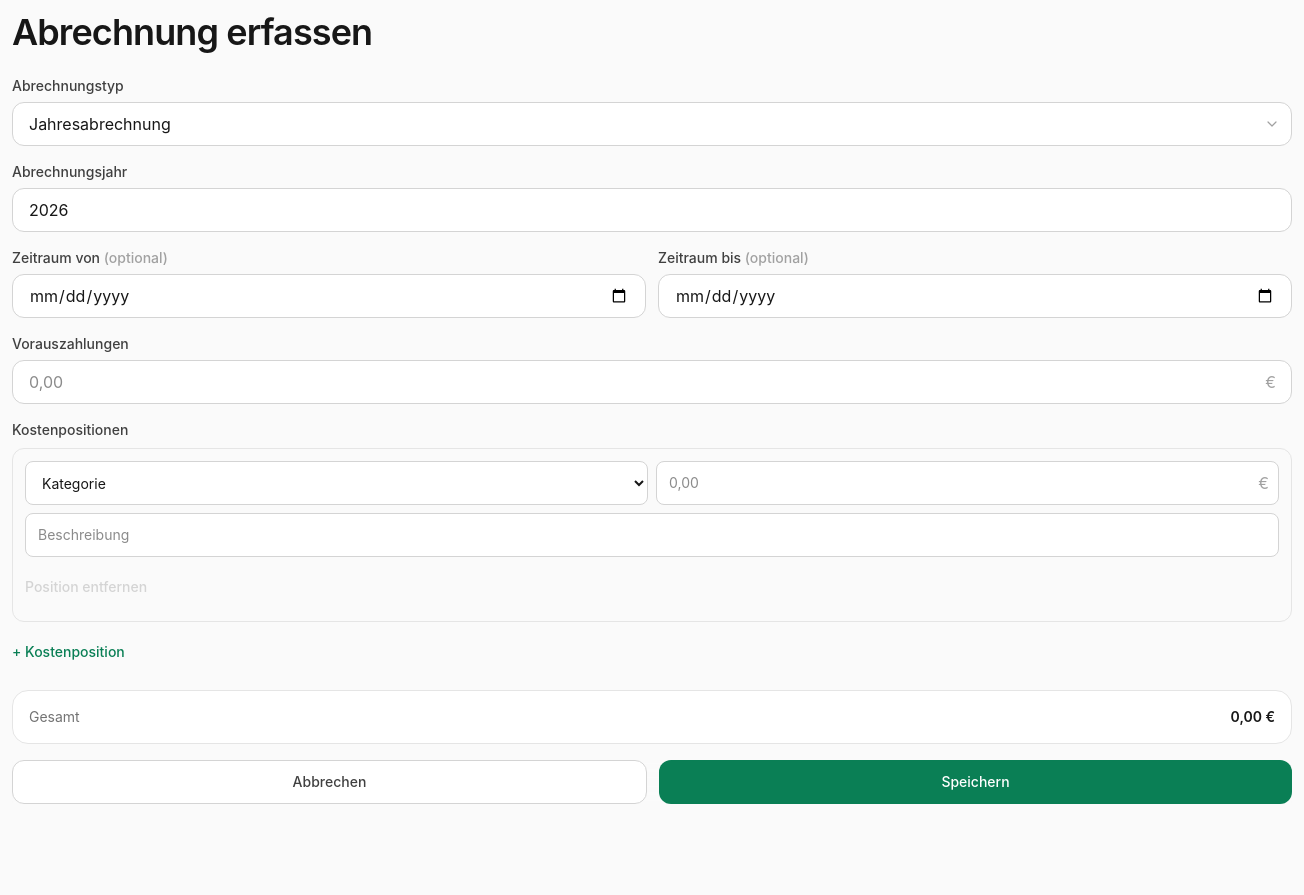
Test: BillFormPage (create) › shows validation errors instead of saving when a bill item has no category
Expected: the field named "Beschreibung der Kostenposition" is shown, [25,513,1279,557]
Type "100" into the field named "Betrag der Kostenposition". click: [968, 483]
box: [656,461,1279,505]
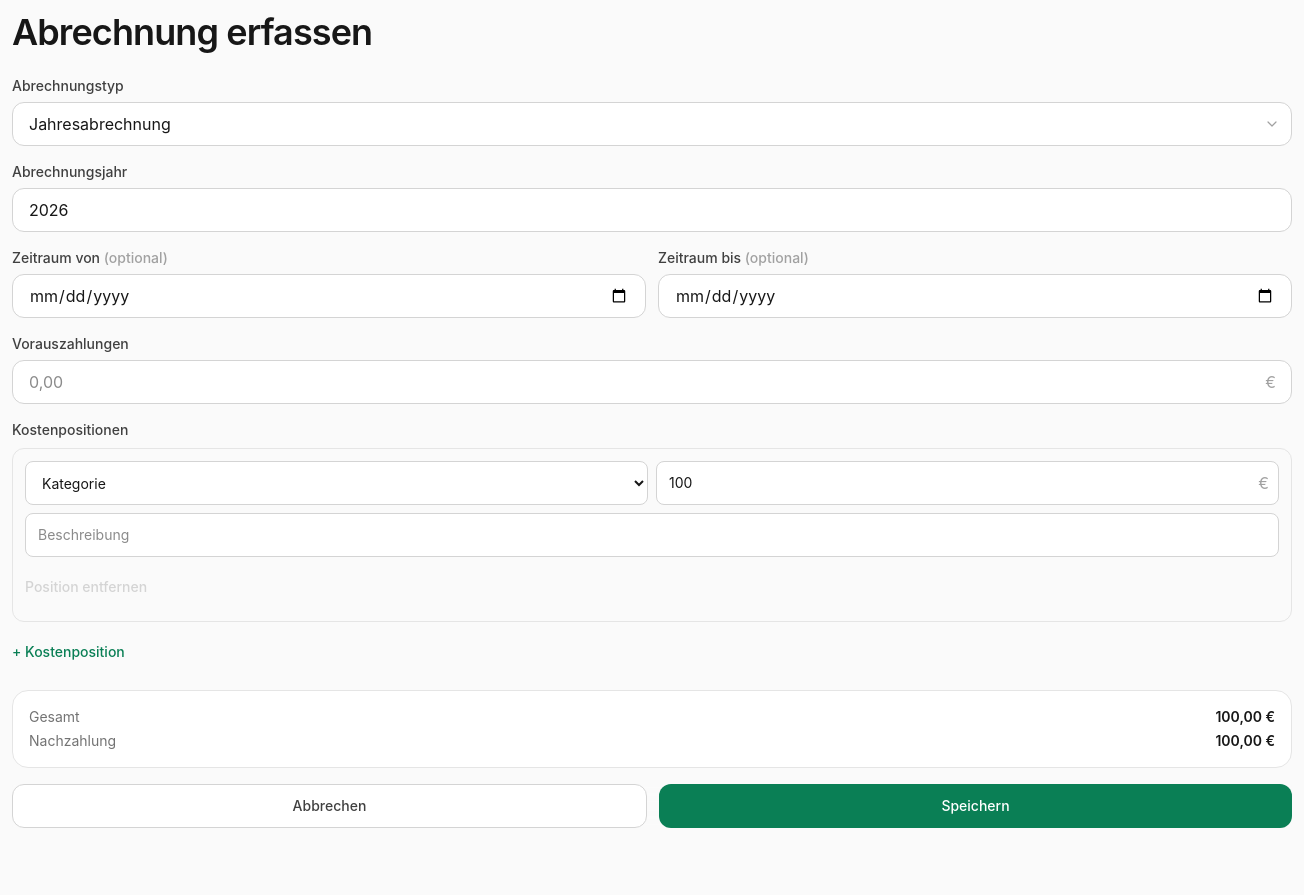
Click the button "Speichern". click: [976, 806]
box: [659,784,1292,828]
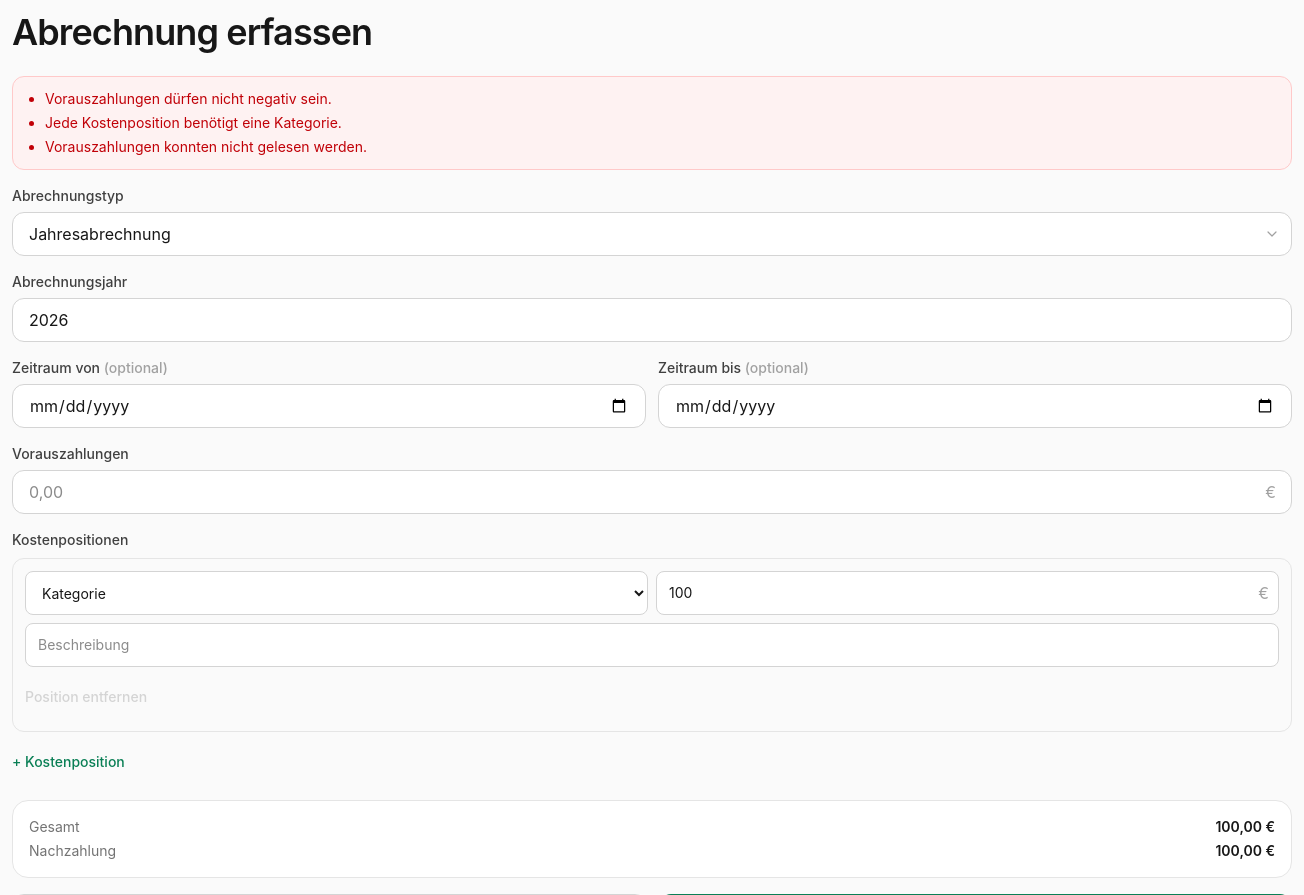
Now the message shows "Jede Kostenposition benötigt eine Kategorie.", box [45,114,342,131]
